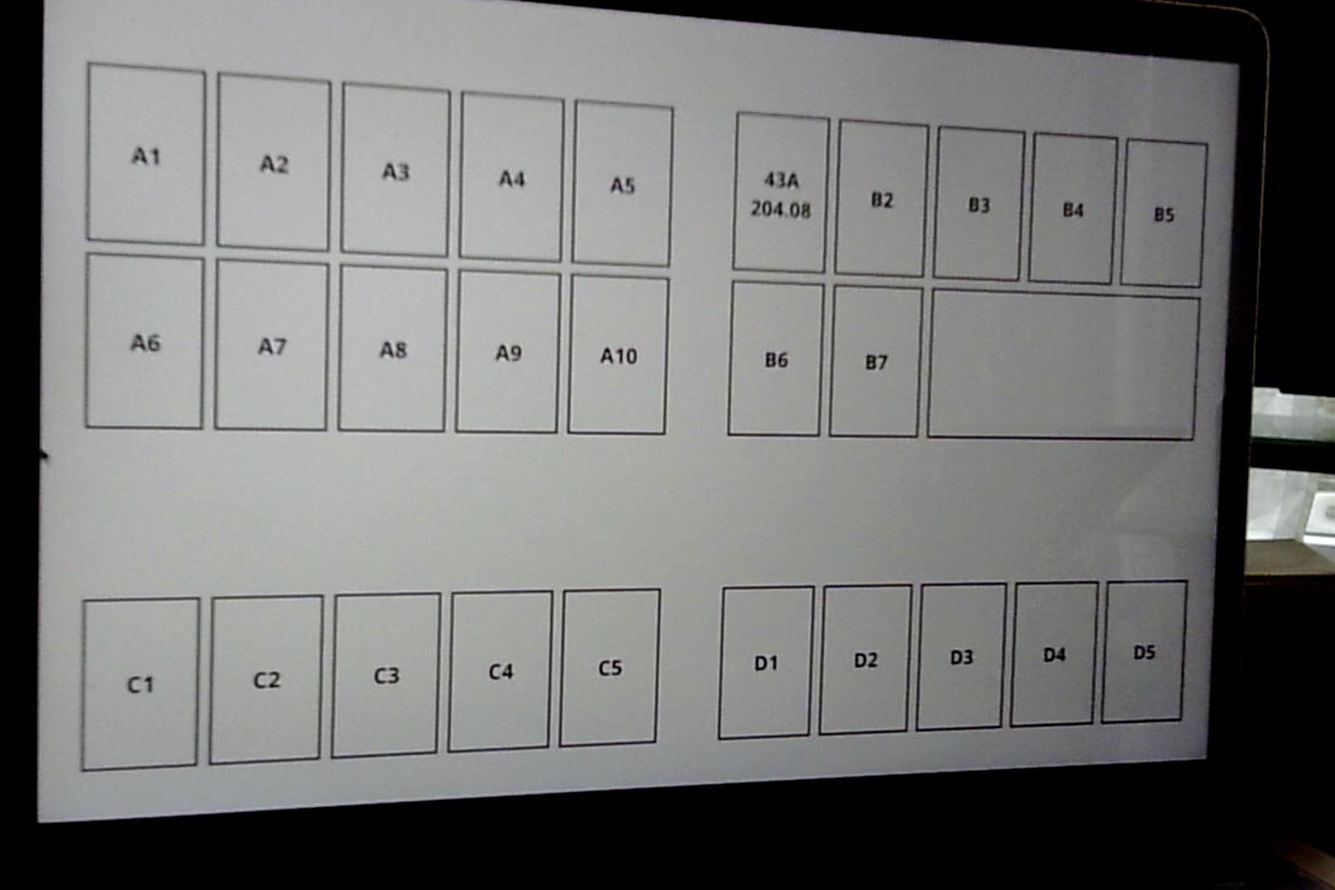parking space: (89, 63, 203, 243), (86, 254, 202, 428), (81, 598, 197, 770), (217, 74, 328, 249), (215, 261, 327, 430), (211, 595, 322, 762), (342, 84, 449, 256), (339, 266, 446, 432), (334, 594, 439, 758), (461, 94, 562, 261), (456, 271, 559, 433), (449, 591, 551, 751), (572, 102, 670, 265), (567, 276, 668, 433), (561, 590, 658, 745), (734, 113, 827, 271), (729, 283, 822, 436), (719, 586, 812, 739), (836, 120, 927, 276), (830, 285, 921, 437), (821, 585, 910, 734), (935, 127, 1022, 279), (1029, 133, 1116, 282), (1122, 140, 1207, 287), (918, 585, 1004, 729), (1012, 583, 1097, 726), (764, 171, 799, 186), (870, 190, 893, 207)
